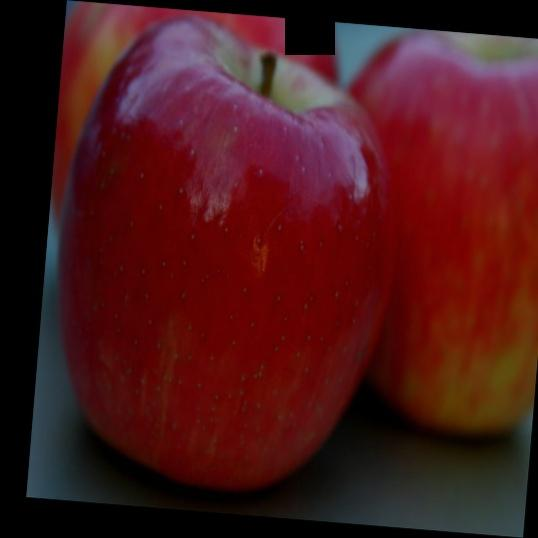red apple: (61, 20, 386, 492)
